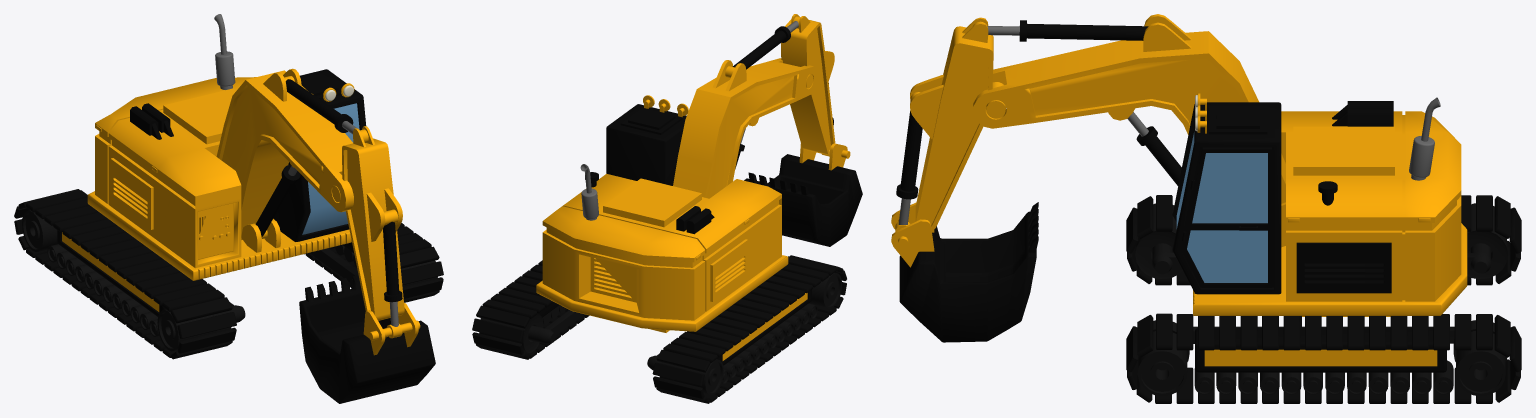
The model's file is Bulldozer.fbx.
3 views of the same model, side by side, from view 1: azimuth 30°, elevation 25°; view 2: azimuth 150°, elevation 25°; view 3: azimuth 270°, elevation 25° (orthographic). The views are drawn at different scales.
Visible parts, largest first — view 1: Bulldozer; view 2: Bulldozer; view 3: Bulldozer.
Boxes of the visible parts, bbox=[...] form: Bulldozer: bbox=[14, 14, 443, 403]; Bulldozer: bbox=[472, 14, 862, 403]; Bulldozer: bbox=[891, 14, 1521, 403].
Size of the model in its own units: 79.94 by 74.8 by 141.
